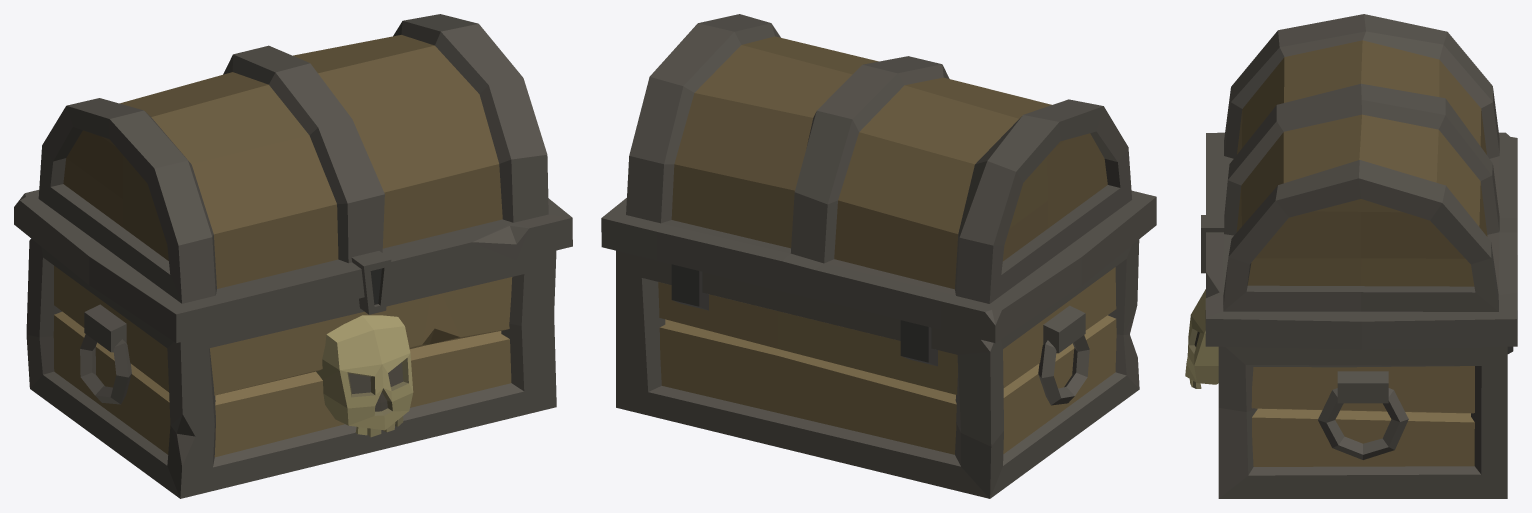
The model's file is Chest_2.fbx.
3 renders of one model, left to right at view 1: azimuth 30°, elevation 25°; view 2: azimuth 150°, elevation 25°; view 3: azimuth 270°, elevation 25°, orthographic. The views are drawn at different scales.
Parts seen in each view (by area): view 1: Chest_2_Lid, Chest_2; view 2: Chest_2_Lid, Chest_2; view 3: Chest_2_Lid, Chest_2.
Boxes of the visible parts, x1,y1,x2,y2 form: Chest_2_Lid: (14,14,572,343); Chest_2: (26,238,556,498); Chest_2_Lid: (601,14,1156,343); Chest_2: (616,239,1139,498); Chest_2_Lid: (1201,14,1517,349); Chest_2: (1185,289,1513,498).
Bounding box in the file's own units: 55.97 × 43.52 × 41.08.
